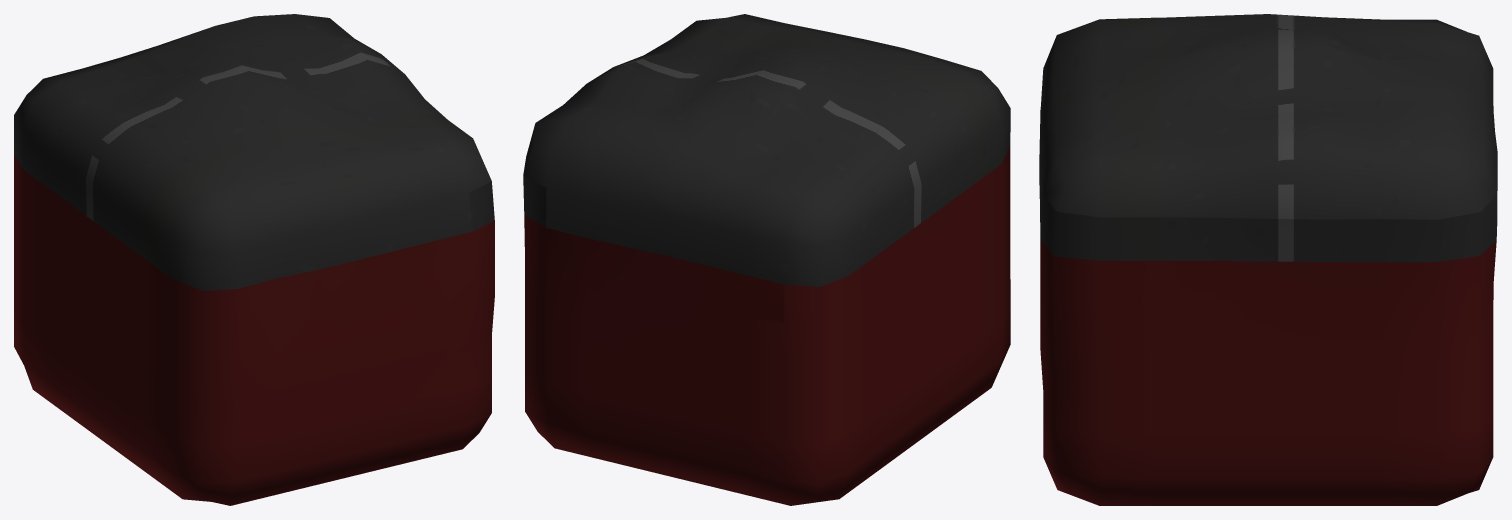
The model's file is RuinedGround_Block_08.fbx.
3 views of the same model, side by side, from view 1: azimuth 30°, elevation 25°; view 2: azimuth 150°, elevation 25°; view 3: azimuth 270°, elevation 25° (orthographic). The views are drawn at different scales.
Visible parts, largest first — view 1: Box016; view 2: Box016; view 3: Box016.
Part boxes in pixels (x1=…): Box016: x1=14, y1=14, x2=494, y2=505; Box016: x1=523, y1=14, x2=1010, y2=505; Box016: x1=1039, y1=14, x2=1497, y2=505.
Bounding box in the file's own units: 20.41 × 21.24 × 22.65.
